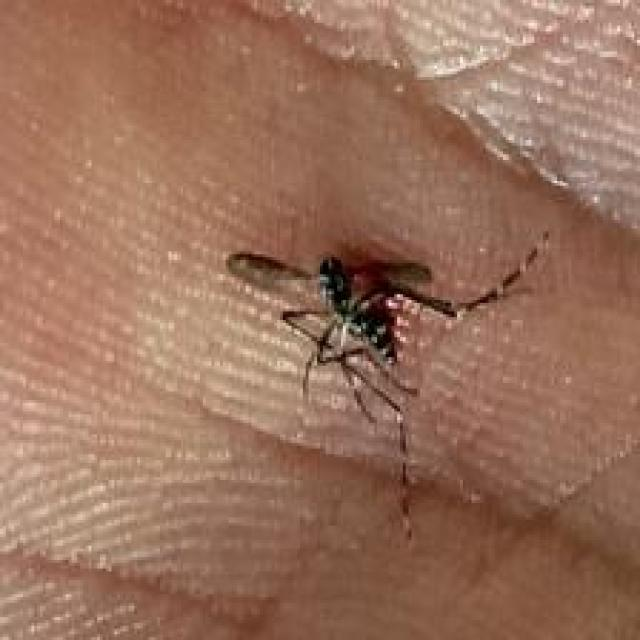Aedes albopictus: (224, 228, 550, 543)
